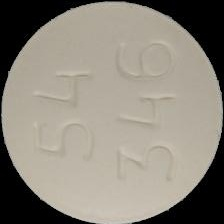49349-691: (0, 0, 224, 224)
